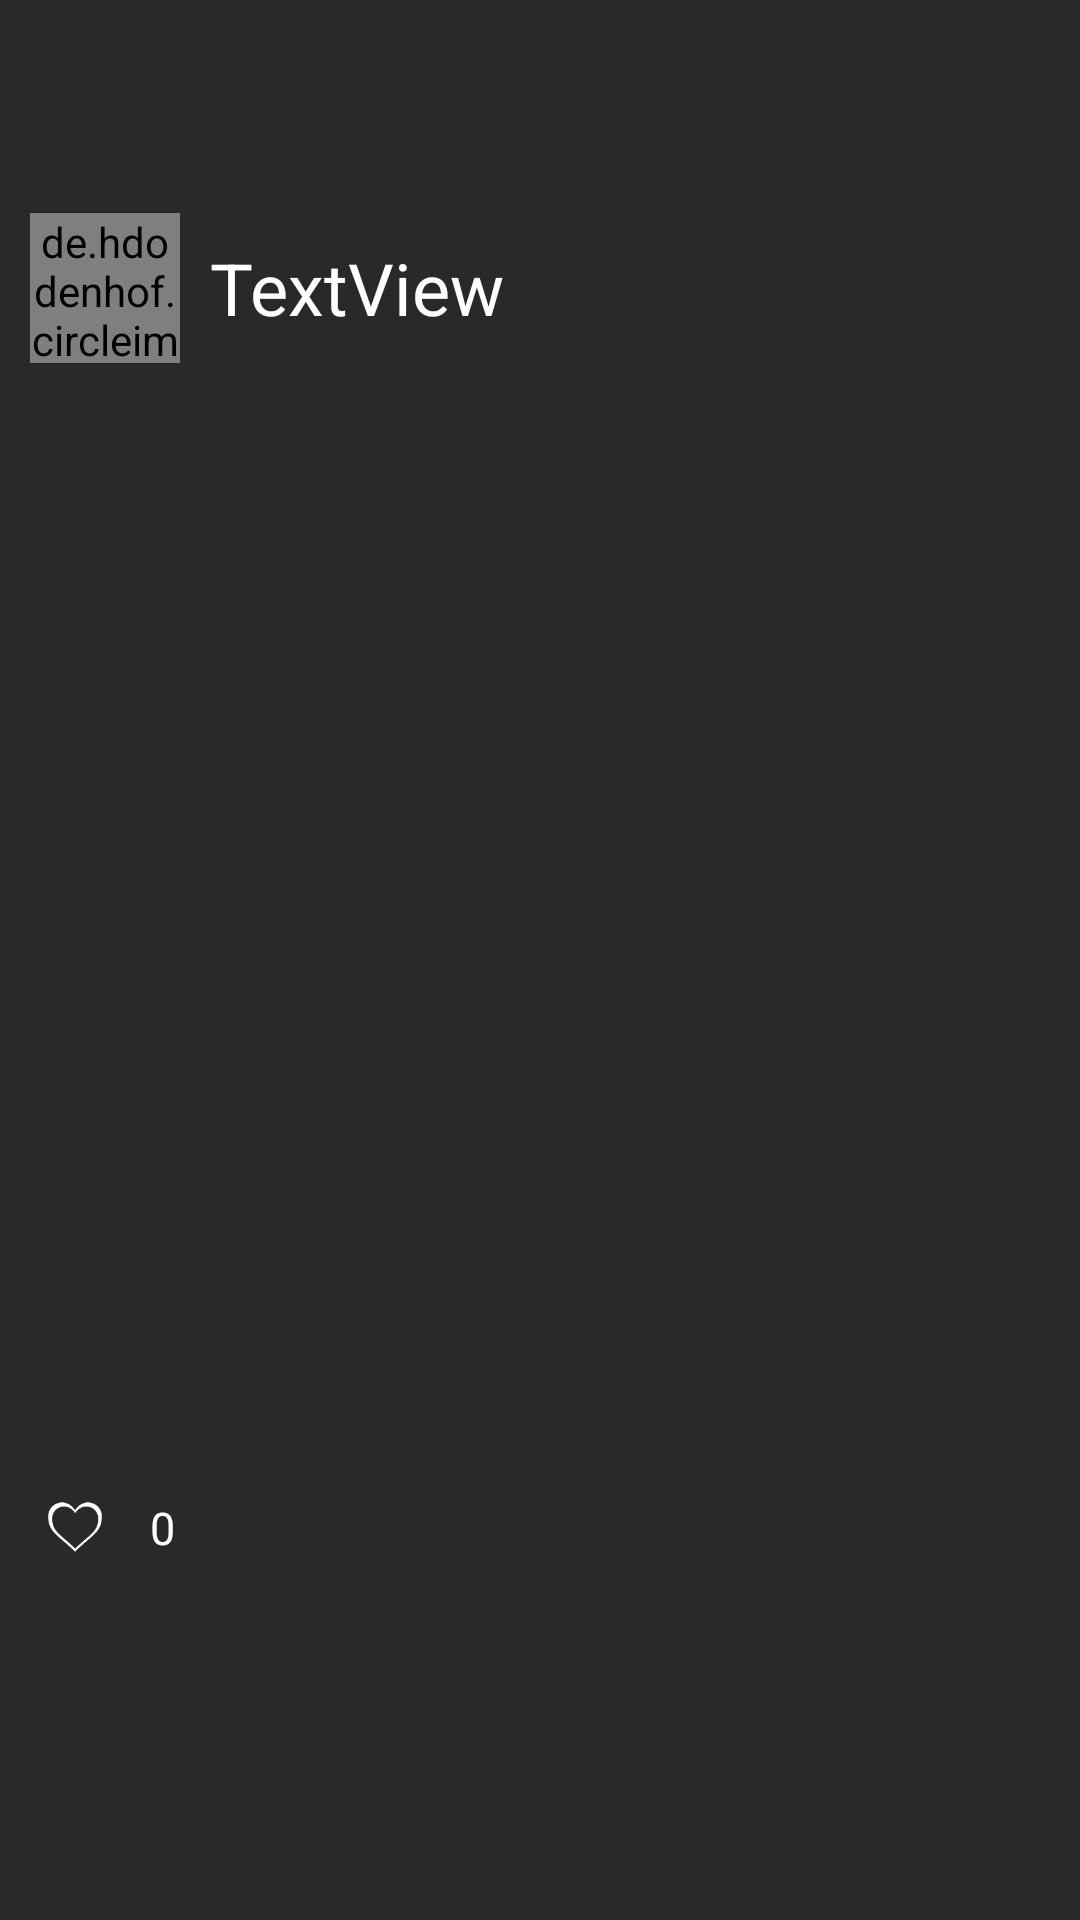

Where icons sit on this 1080x1920 app screen, as (x1, y1, x2, y2):
emptyheart: (48, 1502, 102, 1552)
